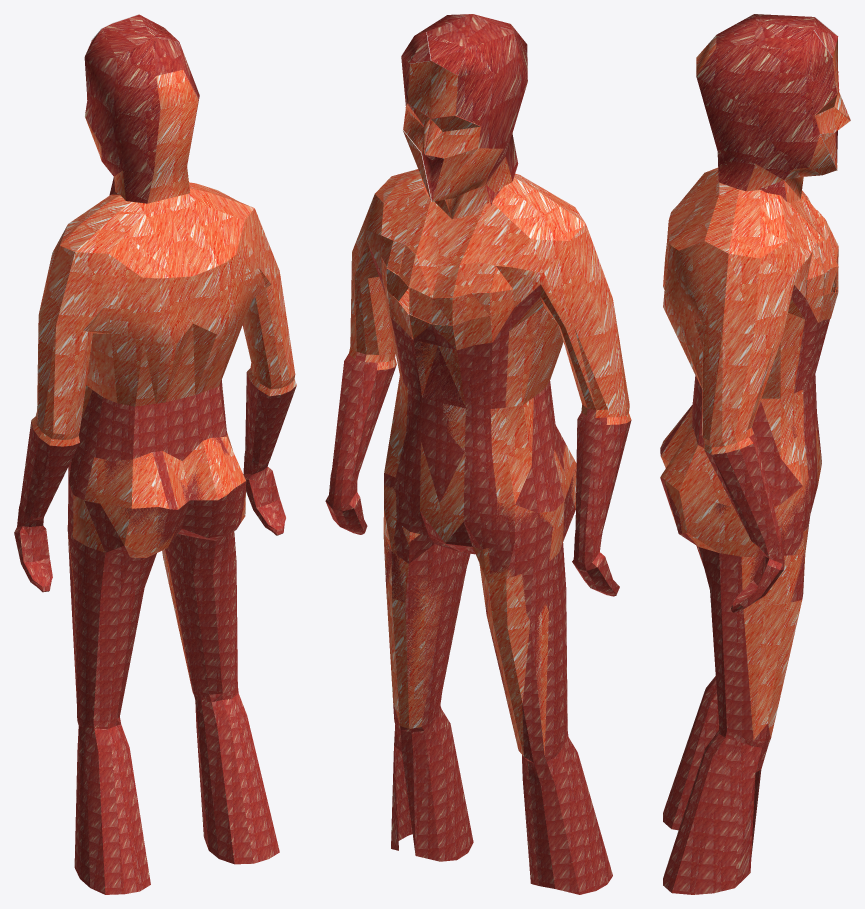
The model's file is Muscular system.glb.
The picture shows the model from 3 angles, left to right: view 1: azimuth 30°, elevation 25°; view 2: azimuth 150°, elevation 25°; view 3: azimuth 270°, elevation 25°; orthographic projection. The views are drawn at different scales.
Parts seen in each view (by area): view 1: 3DGeom-9, 3DGeom-13, 3DGeom-3, 3DGeom-6, 3DGeom-2; view 2: 3DGeom-9, 3DGeom-13, 3DGeom-1, 3DGeom-8, 3DGeom-3, 3DGeom-2, 3DGeom-6, 3DGeom-7; view 3: 3DGeom-9, 3DGeom-13, 3DGeom-3, 3DGeom-6, 3DGeom-1, 3DGeom-8, 3DGeom-2, 3DGeom-12.
Part boxes in pixels (left/top/right/bottom): 3DGeom-9: left=14, top=372, right=296, bottom=894; 3DGeom-13: left=31, top=182, right=296, bottom=446; 3DGeom-3: left=84, top=14, right=199, bottom=203; 3DGeom-6: left=67, top=384, right=245, bottom=557; 3DGeom-2: left=85, top=70, right=198, bottom=203; 3DGeom-9: left=325, top=243, right=631, bottom=894; 3DGeom-13: left=346, top=169, right=631, bottom=424; 3DGeom-1: left=383, top=534, right=548, bottom=756; 3DGeom-8: left=383, top=289, right=543, bottom=543; 3DGeom-3: left=401, top=14, right=527, bottom=200; 3DGeom-2: left=403, top=61, right=512, bottom=219; 3DGeom-6: left=383, top=333, right=576, bottom=582; 3DGeom-7: left=422, top=346, right=465, bottom=407; 3DGeom-9: left=660, top=285, right=835, bottom=894; 3DGeom-13: left=663, top=167, right=838, bottom=454; 3DGeom-3: left=696, top=14, right=850, bottom=201; 3DGeom-6: left=660, top=405, right=808, bottom=557; 3DGeom-1: left=741, top=554, right=805, bottom=739; 3DGeom-8: left=761, top=313, right=821, bottom=485; 3DGeom-2: left=696, top=35, right=850, bottom=202; 3DGeom-12: left=735, top=775, right=755, bottom=887.
Size of what is drawn, in the model's own units: 0.5072 by 1.52 by 0.3174.
3 materials, 2 textured.
